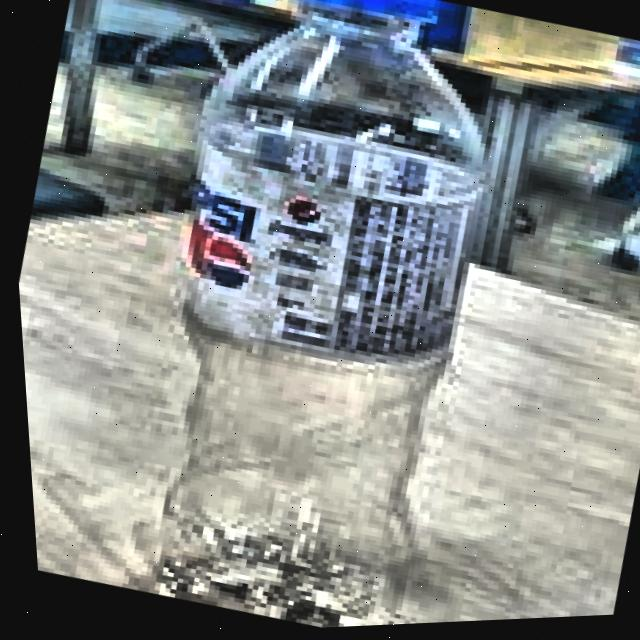plastic: (66, 0, 556, 638)
